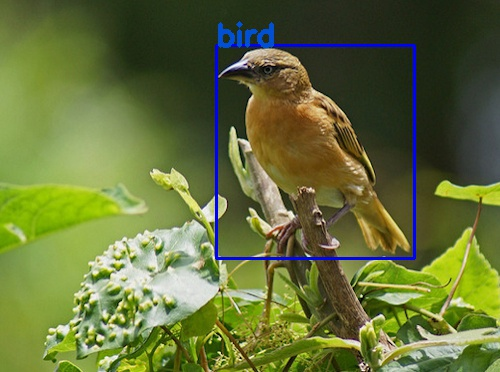bird: (216, 44, 414, 258)
